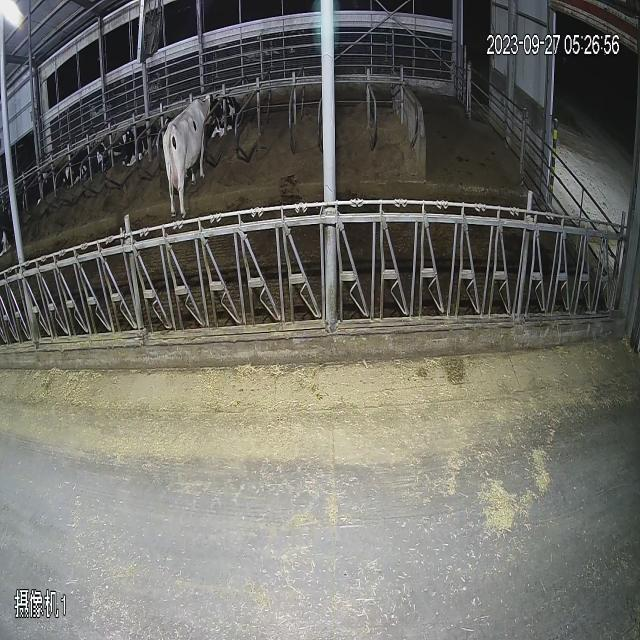lying down: (60, 124, 111, 194), (115, 114, 158, 176)
standing: (162, 88, 217, 222)
